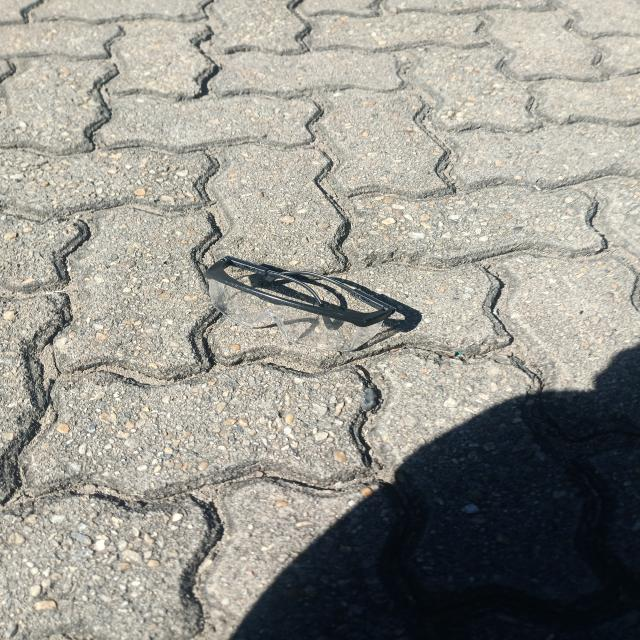oculos-epi: (206, 256, 396, 352)
